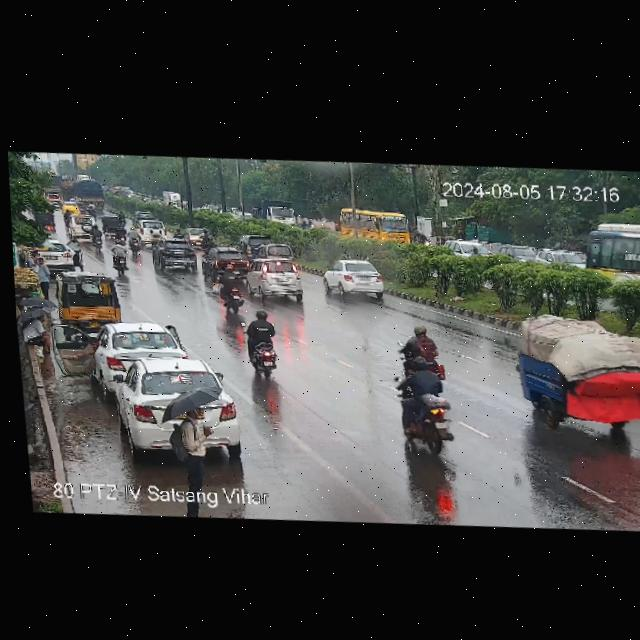bus: (587, 218, 640, 294), (333, 205, 418, 247)
car: (511, 302, 640, 438), (100, 355, 246, 465), (86, 317, 193, 385), (53, 269, 123, 332), (242, 256, 305, 301), (324, 257, 389, 298), (149, 243, 203, 272), (230, 228, 260, 261), (259, 238, 297, 259), (136, 216, 168, 240), (65, 212, 91, 241), (100, 210, 125, 238), (449, 236, 484, 256), (201, 248, 222, 281), (184, 226, 200, 245), (133, 211, 154, 220)
motorcycle: (394, 354, 456, 454), (391, 323, 442, 399), (241, 306, 277, 377), (395, 321, 436, 366), (218, 261, 243, 313), (108, 241, 131, 276), (129, 226, 141, 255), (90, 221, 101, 248), (62, 207, 72, 224), (115, 223, 125, 238), (199, 228, 209, 243), (204, 234, 214, 248), (88, 204, 95, 218), (470, 247, 482, 255), (173, 228, 183, 237)
person: (169, 400, 220, 485), (18, 314, 47, 355), (37, 253, 51, 295), (29, 247, 39, 265)
truck: (59, 175, 110, 214), (248, 192, 299, 225)
